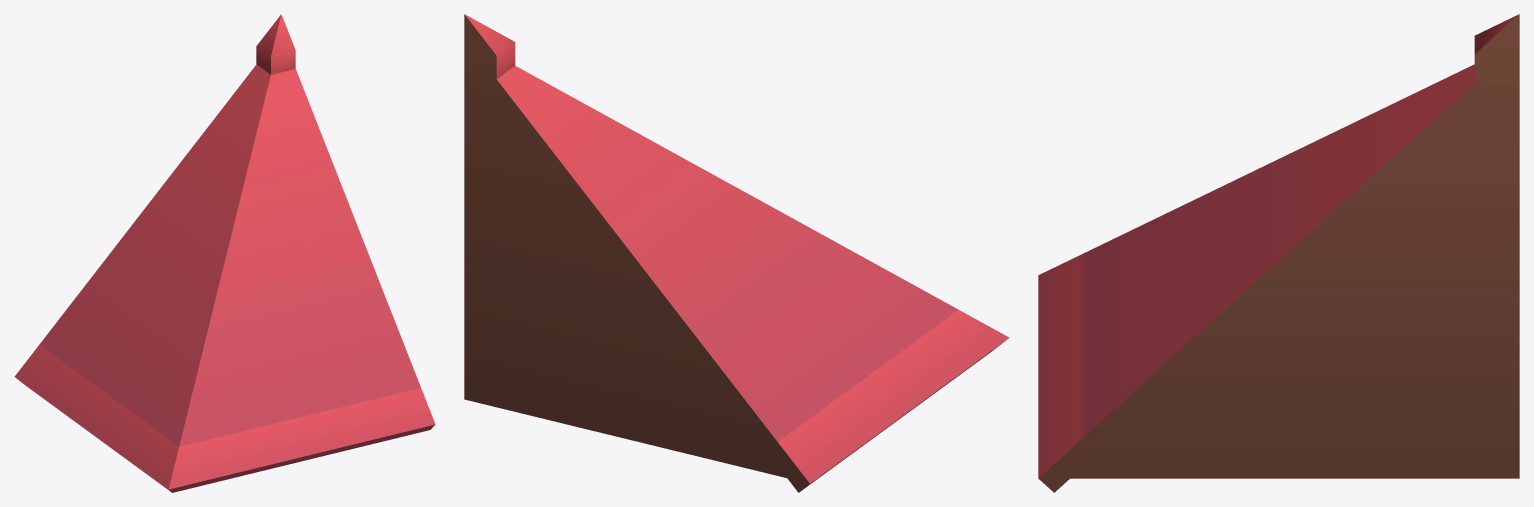
The model's file is roof-high-corner.glb.
3 renders of one model, left to right at view 1: azimuth 30°, elevation 25°; view 2: azimuth 150°, elevation 25°; view 3: azimuth 270°, elevation 25°, orthographic. The views are drawn at different scales.
Parts seen in each view (by area): view 1: roof-high-corner; view 2: roof-high-corner; view 3: roof-high-corner.
Boxes of the visible parts, x1,y1,x2,y2 form: roof-high-corner: (14,14,435,492); roof-high-corner: (464,14,1009,492); roof-high-corner: (1038,14,1519,492).
Size of the model in its own units: 1.07 by 1.18 by 1.07.
Materials: 1 (1 with a texture image).
